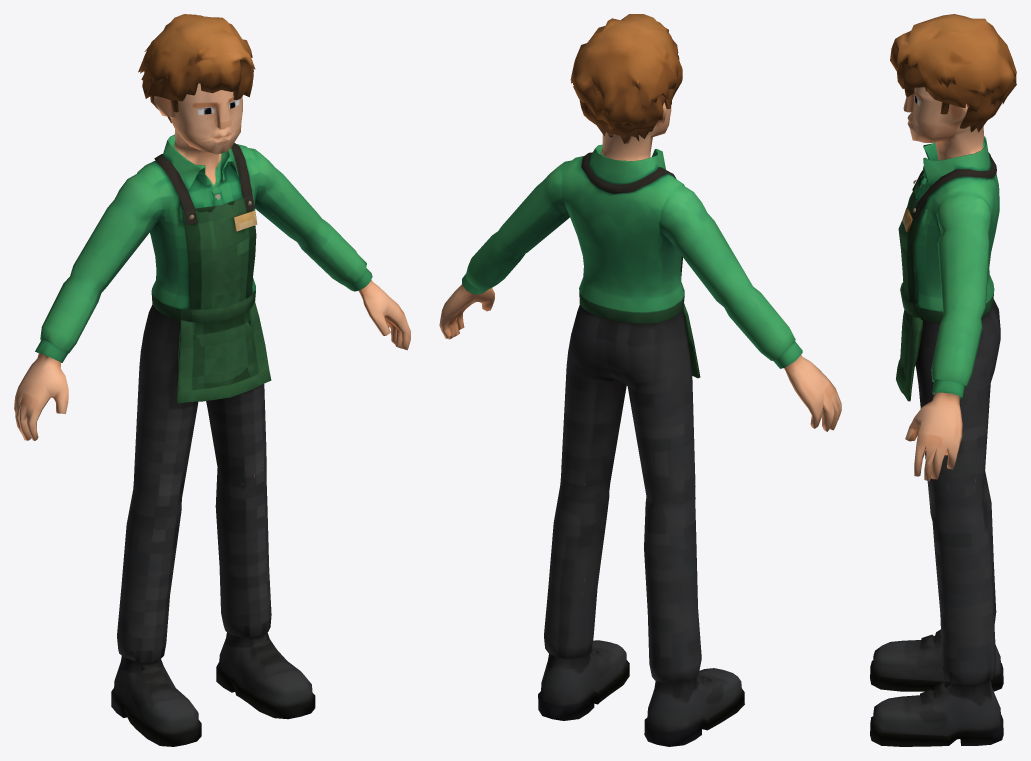
File: store_clerk.glb
The picture shows the model from 3 angles, left to right: view 1: azimuth 30°, elevation 25°; view 2: azimuth 150°, elevation 25°; view 3: azimuth 270°, elevation 25°; orthographic projection.
Visible parts, largest first — view 1: geometry_0; view 2: geometry_0; view 3: geometry_0.
Part boxes in pixels (<box>): geometry_0: <box>14,14,410,746</box>; geometry_0: <box>439,14,841,746</box>; geometry_0: <box>870,14,1016,746</box>.
Bounding box in the file's own units: 0.5659 × 0.9507 × 0.1836.
Materials: 1 (1 with a texture image).
